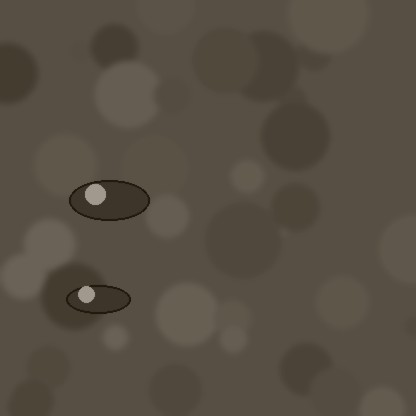gota: (69, 182, 149, 224), (66, 286, 130, 316)
